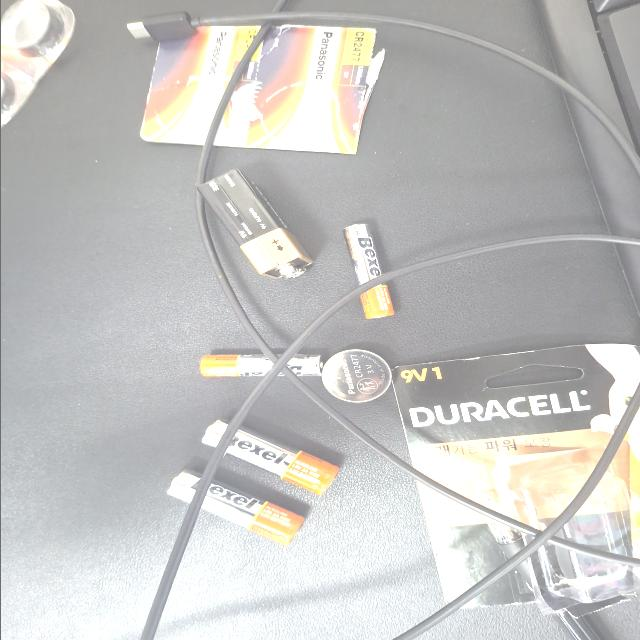9V: (268, 146, 416, 235)
AA: (0, 149, 82, 253)
AAA: (220, 256, 340, 294), (138, 149, 170, 245)
COIN: (108, 240, 176, 296)
